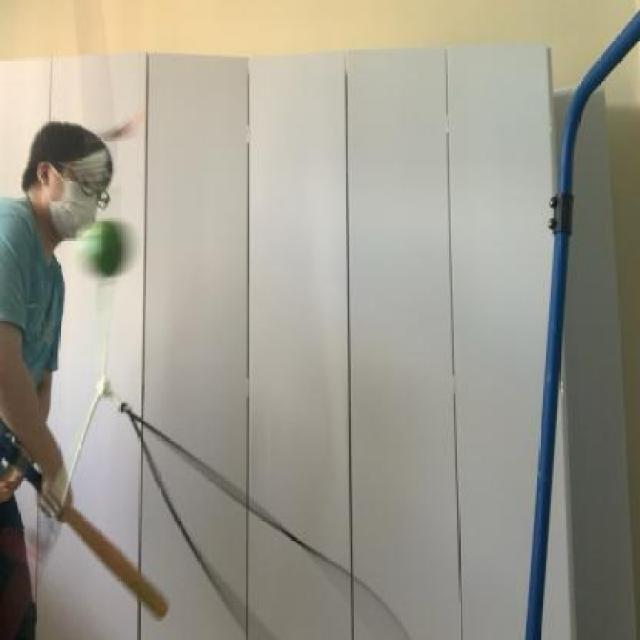baseball: (57, 216, 137, 289)
